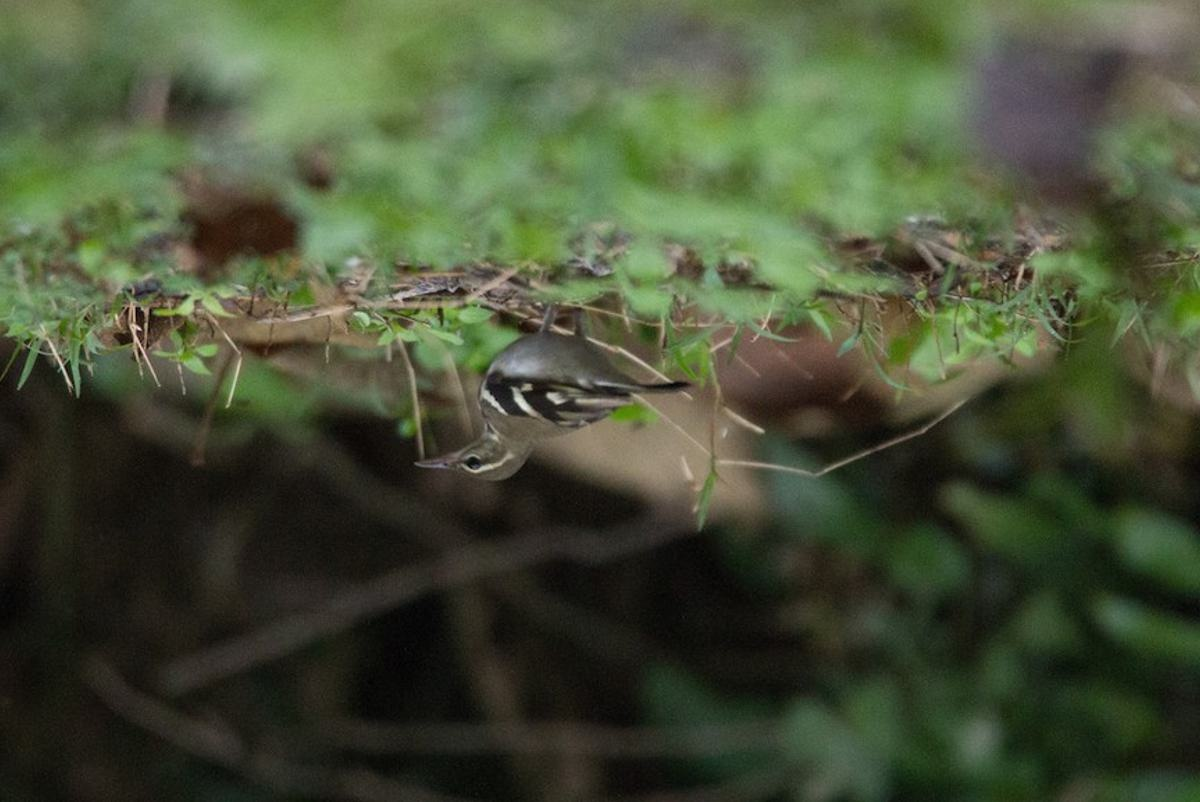wagtail: (423, 325, 730, 514)
